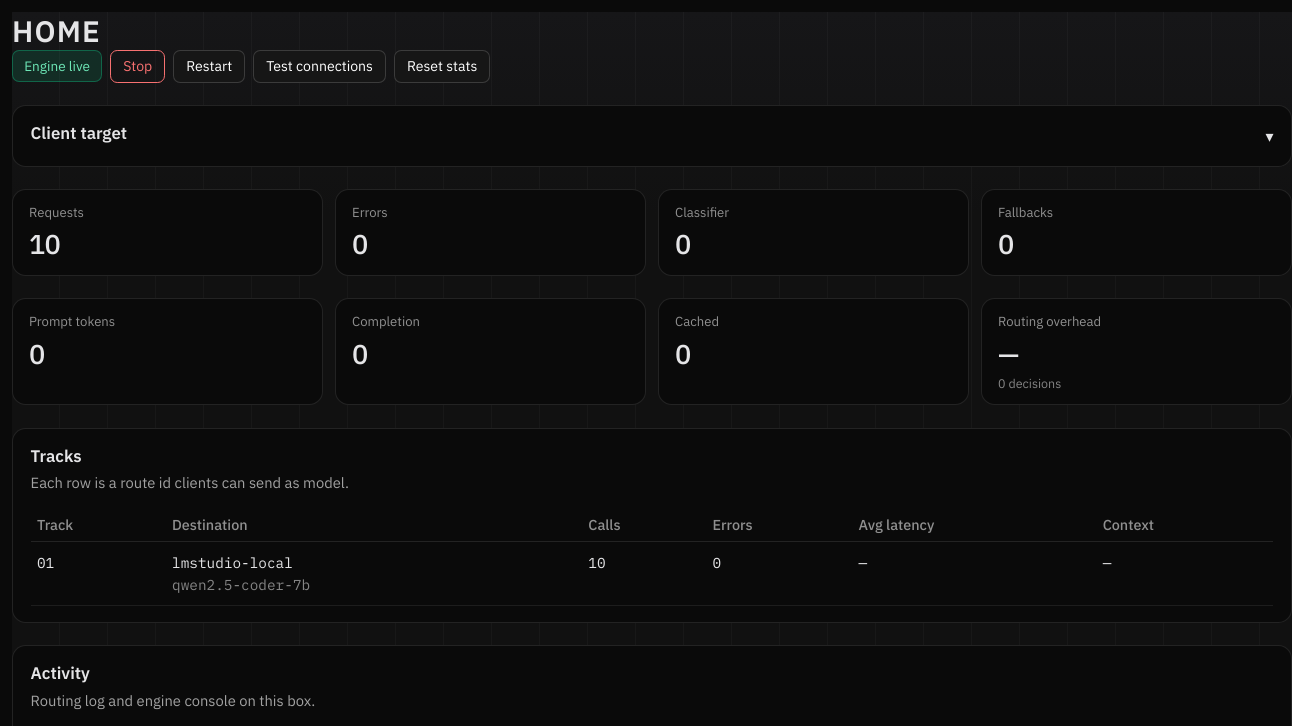
Test: MaskClawHome › matches the appliance HOME board minus BOX-only copy
The width and height of the screenshot is (1292, 726).
Check: the text "Start" is not shown
Check: the text "Base URL v1" is not shown
Click the button "Client target ▾": [79, 133] box [31, 122, 1273, 150]
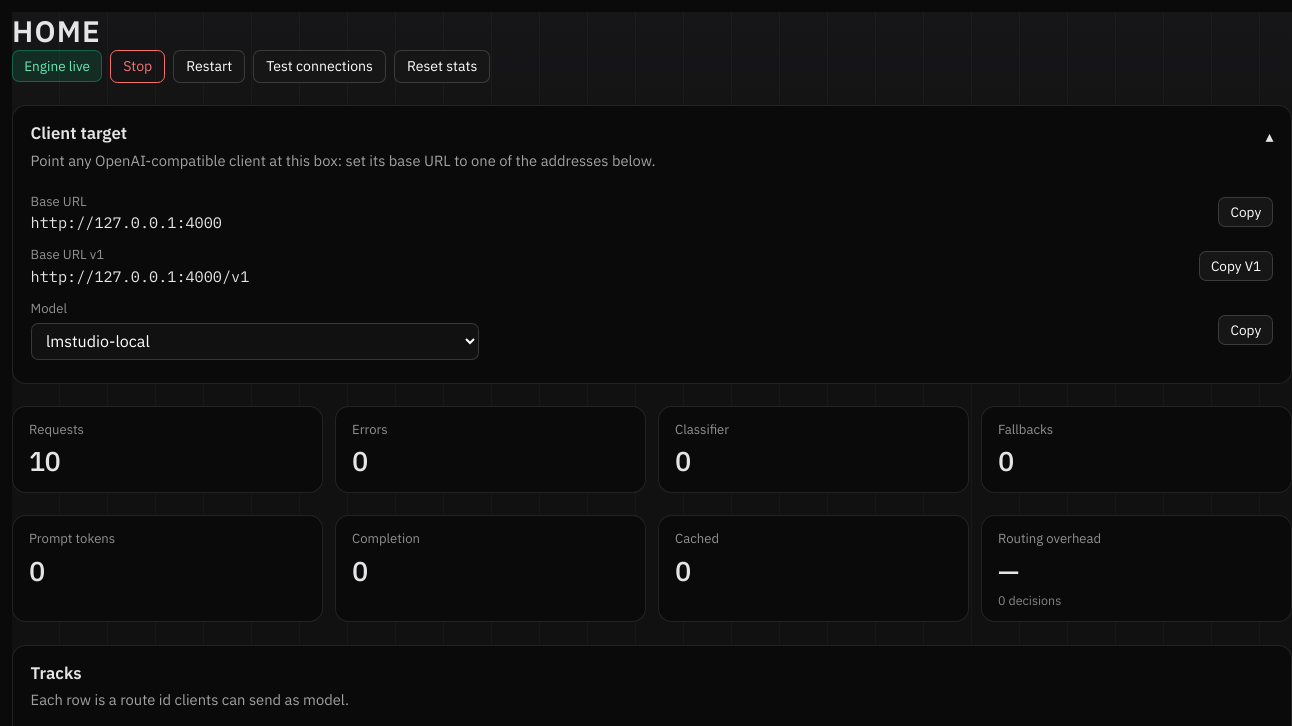
Check: the button "Client target ▴" is expanded, box [31, 122, 1273, 150]
Check: the text "OpenAI-compatible client" is shown, box [31, 151, 656, 170]
Check: the text "Base URL v1" is shown, box [31, 246, 104, 263]
